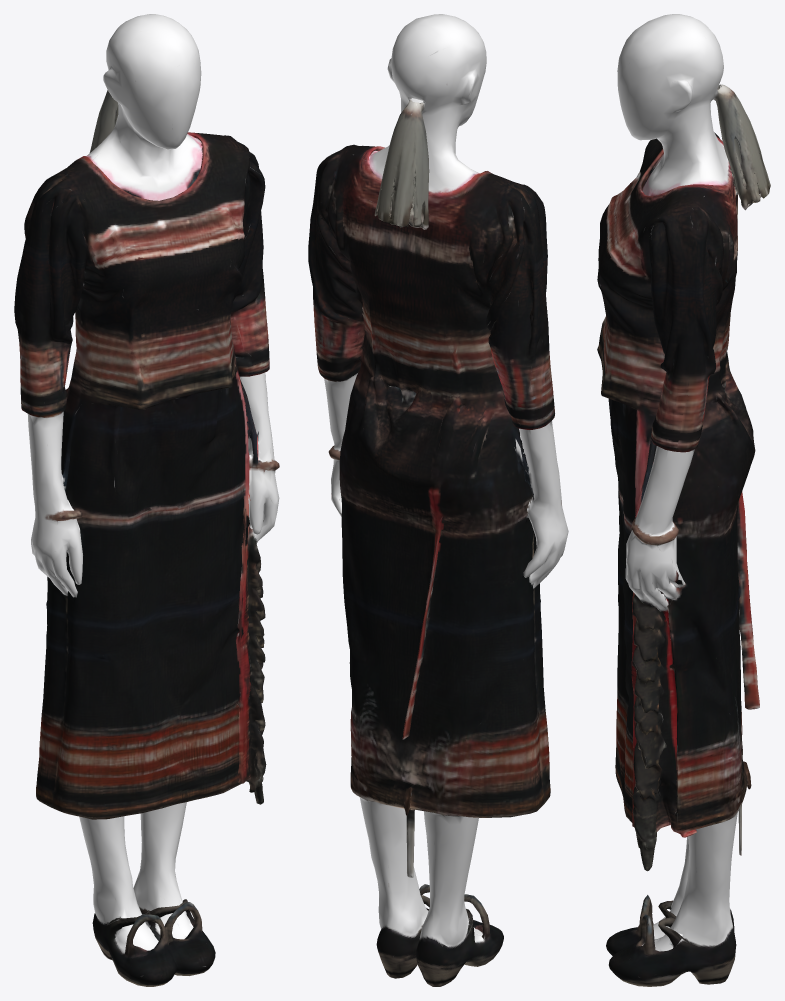
The picture shows the model from 3 angles, left to right: view 1: azimuth 30°, elevation 25°; view 2: azimuth 150°, elevation 25°; view 3: azimuth 270°, elevation 25°; orthographic projection.
Bounding box in the file's own units: 0.2483 × 0.9505 × 0.1572.
1 material, 1 textured.
